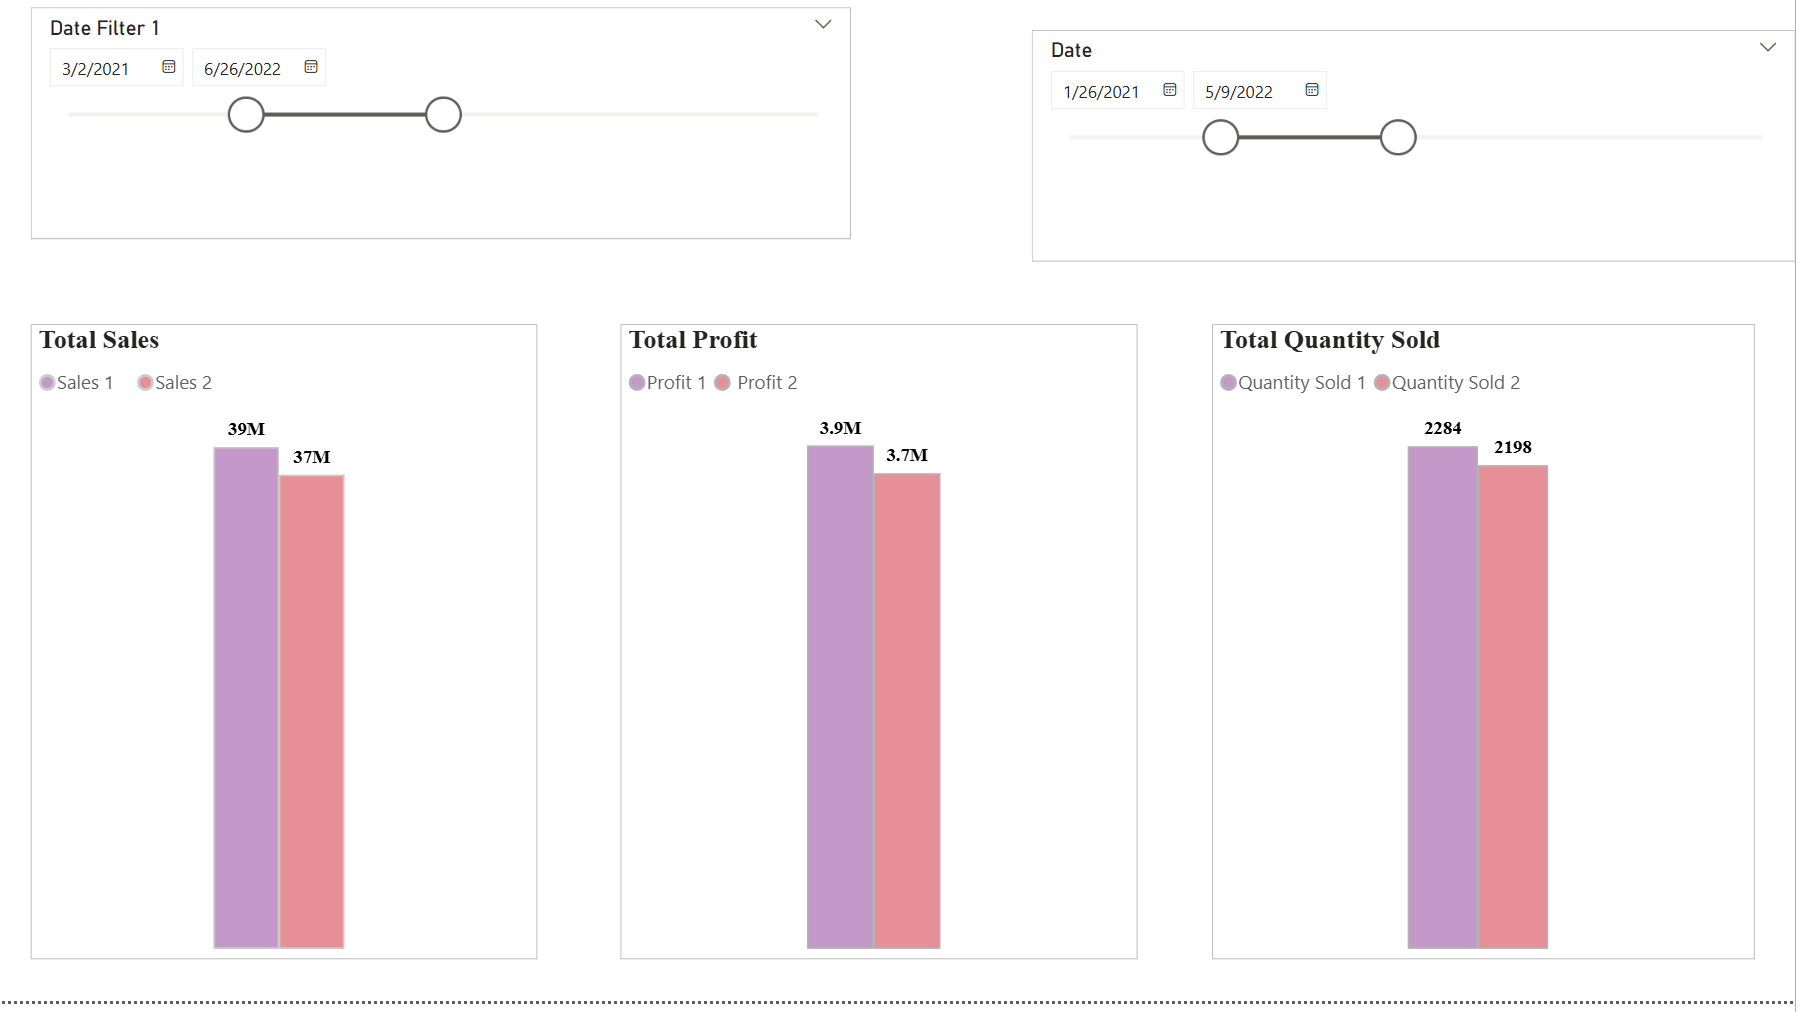

Layout of this report page (visuals, bound fields, positions):
{"tool":"powerbi","page":{"name":"Requirement 4","canvas":[1280,720],"ordinal":2},"visuals":[{"type":"slicer","fields":{"Values":["Date Table 1.Date"]},"box":[25.7,14.3,582.9,164.3],"z":0},{"type":"slicer","fields":{"Values":["Date Table 2.Date"]},"box":[737.1,30,542.9,164.3],"z":1000},{"type":"clusteredColumnChart","title":"Total Sales","fields":{"Y":["Sum(Fact Table.Net Sales   )","Date Table 1.Sum of Net Sales"]},"box":[25.7,238.6,360,451.4],"z":2000},{"type":"clusteredColumnChart","title":"Total Profit","fields":{"Y":["Sum(Fact Table.Profit)","Measures Table.Total Profit"]},"box":[445.7,238.6,367.1,451.4],"z":3000},{"type":"clusteredColumnChart","title":"Total Quantity Sold","fields":{"Y":["Sum(Fact Table.Units Sold)","Measures Table.Quantity Sold"]},"box":[865.7,238.6,385.7,451.4],"z":4000}]}

Visuals, with their boxes in screenshot pixels (x1, y1, x2, y2), scaled from the page's 1280x720 canvas onto the 1803x1012 screenshot:
slicer - Date Table 1.Date: (36, 20, 857, 251)
slicer - Date Table 2.Date: (1038, 42, 1802, 273)
"Total Sales" clusteredColumnChart: (36, 335, 543, 970)
"Total Profit" clusteredColumnChart: (628, 335, 1145, 970)
"Total Quantity Sold" clusteredColumnChart: (1219, 335, 1763, 970)
